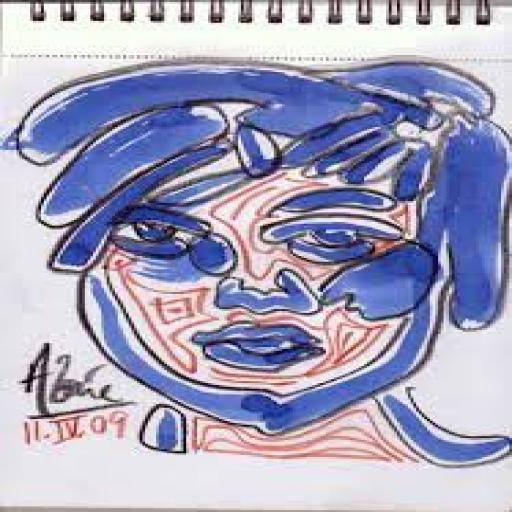person: (9, 57, 511, 477)
